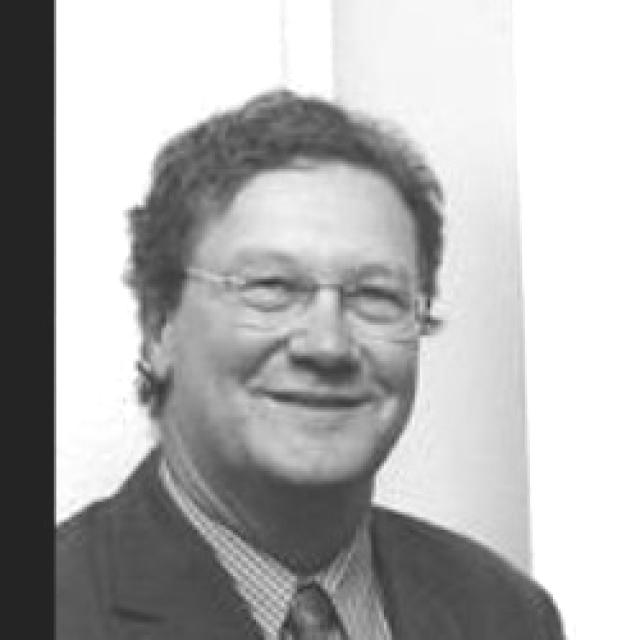real: (184, 162, 424, 484), (237, 267, 410, 313)
